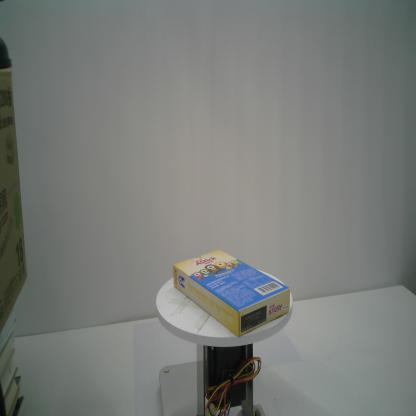Dessert: (172, 248, 291, 339)
